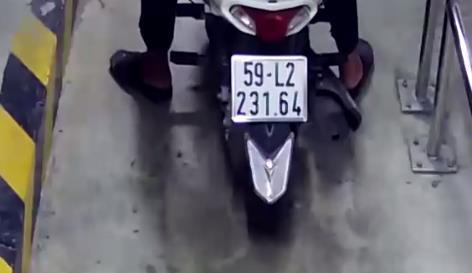lisence: (229, 54, 308, 124)
